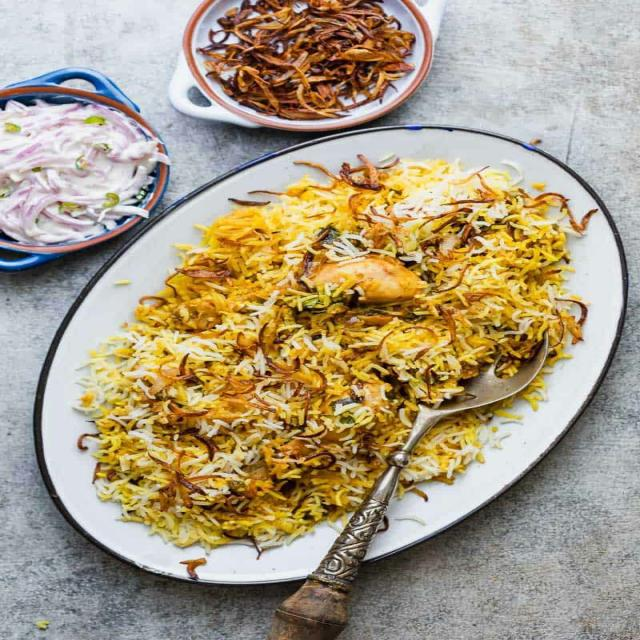Biryani: (82, 152, 578, 560)
